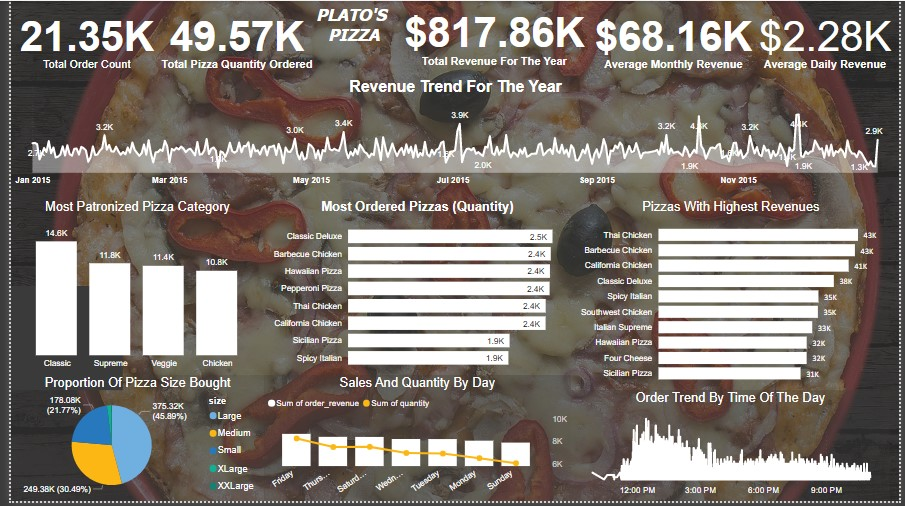

This screenshot's page, from the dashboard's own definition file:
{"tool":"powerbi","page":{"name":"Page 1","canvas":[1280,720],"ordinal":0},"visuals":[{"type":"card","fields":{"Values":["order_details.Total Order Quantity"]},"box":[0,0,218.4,109.2],"z":0},{"type":"card","fields":{"Values":["order_details.Total Quantity Ordered"]},"box":[207.4,0,236.2,109.4],"z":1000},{"type":"textbox","box":[0,410,161,150],"z":2000},{"type":"clusteredColumnChart","title":"Most Patronized Pizza Category","fields":{"Category":["pizza_types.category"],"Y":["CountNonNull(order_details.order_id)"]},"box":[0,285.1,364.3,253.4],"z":3000},{"type":"clusteredBarChart","title":"Most Ordered Pizzas (Quantity)","fields":{"Y":["Sum(order_details.quantity)"],"Category":["pizza_types.classic_name"]},"box":[364.5,285.6,441.8,253.6],"z":4000},{"type":"card","fields":{"Values":["order_details.Total Revenue"]},"box":[551.5,0,289.4,97.9],"z":5000},{"type":"clusteredBarChart","title":"Pizzas With Highest Revenues ","fields":{"Y":["Sum(order_details.cost)"],"Category":["pizza_types.classic_name"]},"box":[806.3,285.6,460.3,273.8],"z":6000},{"type":"areaChart","title":"Revenue Trend For The Year","fields":{"Category":["orders.date"],"Y":["Sum(order_details.order_revenue)"]},"box":[0,109.2,1280,164.6],"z":7000},{"type":"card","fields":{"Values":["order_details.Average Monthly Revenue"]},"box":[830.9,0,246.2,109.4],"z":8000},{"type":"card","fields":{"Values":["order_details.order_revenue average per date"]},"box":[1064.2,0,216,109.4],"z":9000},{"type":"pieChart","title":"Proportion Of Pizza Size Bought","fields":{"Category":["pizzas.size"],"Y":["Sum(order_details.order_revenue)"]},"box":[0,539.2,364.5,181.4],"z":10000},{"type":"textbox","box":[421.9,0,142.6,97.9],"z":11000},{"type":"lineClusteredColumnComboChart","title":"Sales And Quantity By Day","fields":{"Category":["orders.Day"],"Y":["Sum(order_details.order_revenue)"],"Y2":["Sum(order_details.quantity)"]},"box":[364.5,539.2,441.8,181.4],"z":11001},{"type":"lineChart","title":"Order Trend By Time Of The Day","fields":{"Category":["orders.time"],"Y":["Sum(order_details.quantity)"]},"box":[807,560,459,160],"z":11002}]}

Visuals, with their boxes in screenshot pixels (x1, y1, x2, y2), scaled from the page's 1280x720 canvas onto the 905x506 screenshot:
card - order_details.Total Order Quantity: locate(0, 0, 154, 77)
card - order_details.Total Quantity Ordered: locate(147, 0, 314, 77)
textbox: locate(0, 288, 114, 394)
"Most Patronized Pizza Category" clusteredColumnChart: locate(0, 200, 258, 378)
"Most Ordered Pizzas (Quantity)" clusteredBarChart: locate(258, 201, 570, 379)
card - order_details.Total Revenue: locate(390, 0, 595, 69)
"Pizzas With Highest Revenues " clusteredBarChart: locate(570, 201, 896, 393)
"Revenue Trend For The Year" areaChart: locate(0, 77, 904, 192)
card - order_details.Average Monthly Revenue: locate(587, 0, 762, 77)
card - order_details.order_revenue average per date: locate(752, 0, 904, 77)
"Proportion Of Pizza Size Bought" pieChart: locate(0, 379, 258, 505)
textbox: locate(298, 0, 399, 69)
"Sales And Quantity By Day" lineClusteredColumnComboChart: locate(258, 379, 570, 505)
"Order Trend By Time Of The Day" lineChart: locate(571, 394, 895, 505)
